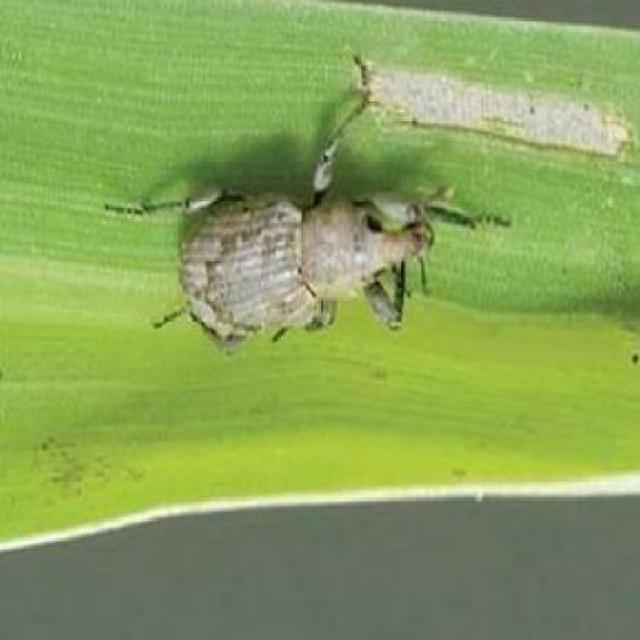rice-bug: (136, 109, 449, 365)
